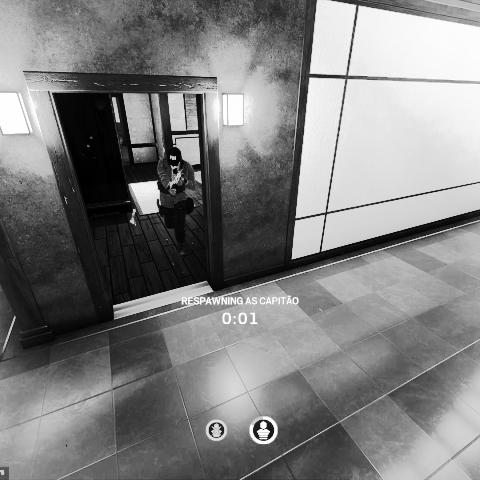Character: (154, 145, 199, 257)
Head: (166, 146, 184, 168)
